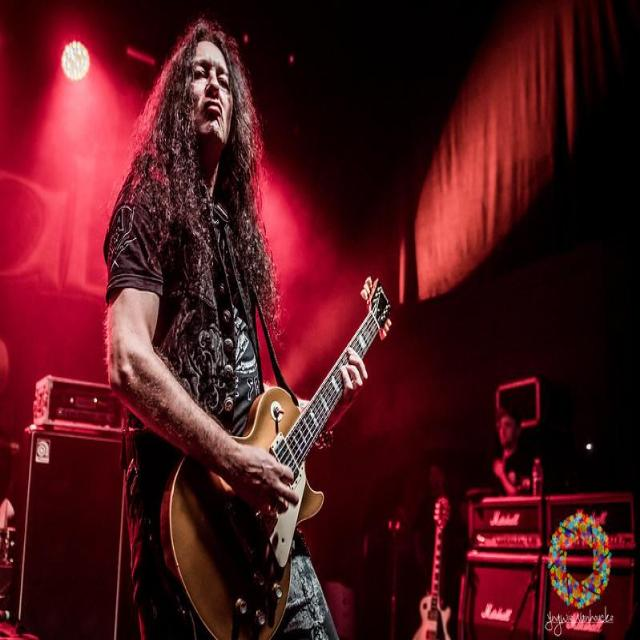guitar: (162, 350, 346, 639), (414, 498, 450, 639)
